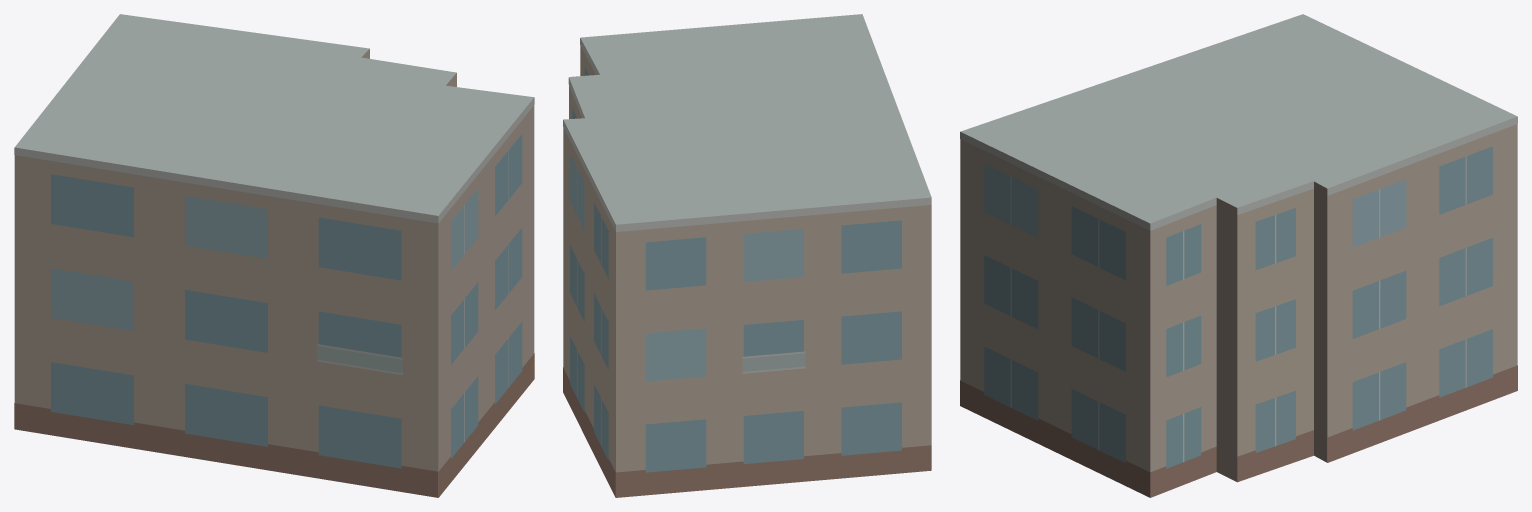
Rendered from survey-upis-32717509.glb.
3 renders of one model, left to right at view 1: azimuth 30°, elevation 25°; view 2: azimuth 150°, elevation 25°; view 3: azimuth 270°, elevation 25°, orthographic. The views are drawn at different scales.
Visible parts, largest first — view 1: survey-upis-32717509.tmp; view 2: survey-upis-32717509.tmp; view 3: survey-upis-32717509.tmp.
Part boxes in pixels (left/top/right/bottom): survey-upis-32717509.tmp: left=14, top=14, right=534, bottom=497; survey-upis-32717509.tmp: left=563, top=14, right=931, bottom=497; survey-upis-32717509.tmp: left=960, top=14, right=1517, bottom=497.
Size of the model in its own units: 15 by 9.15 by 16.87.
